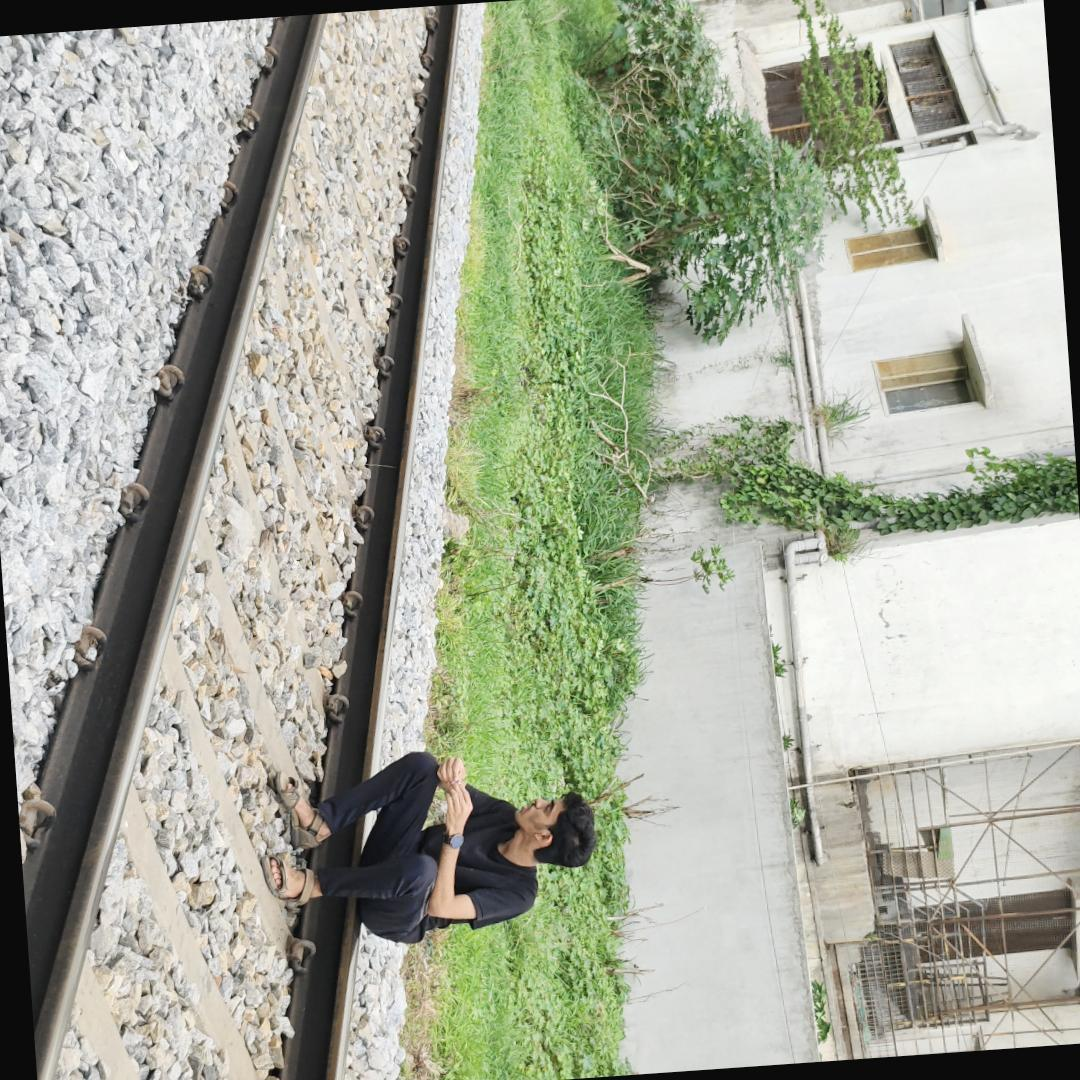sitting: (257, 744, 606, 956)
